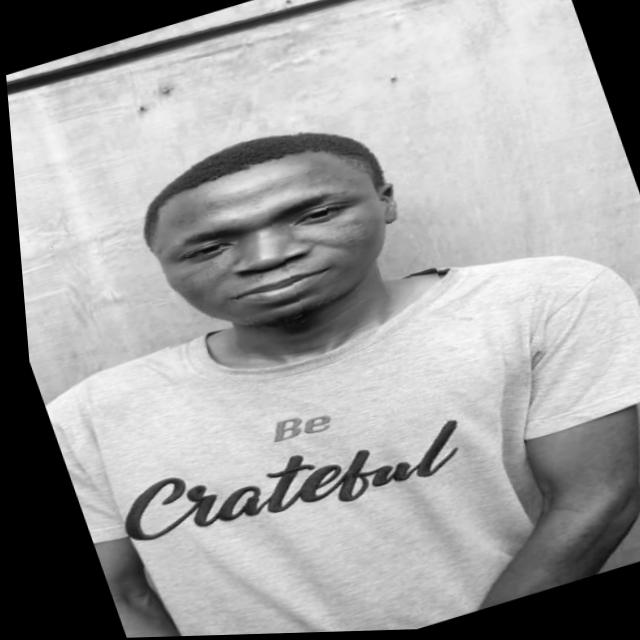sad: (100, 101, 443, 376)
